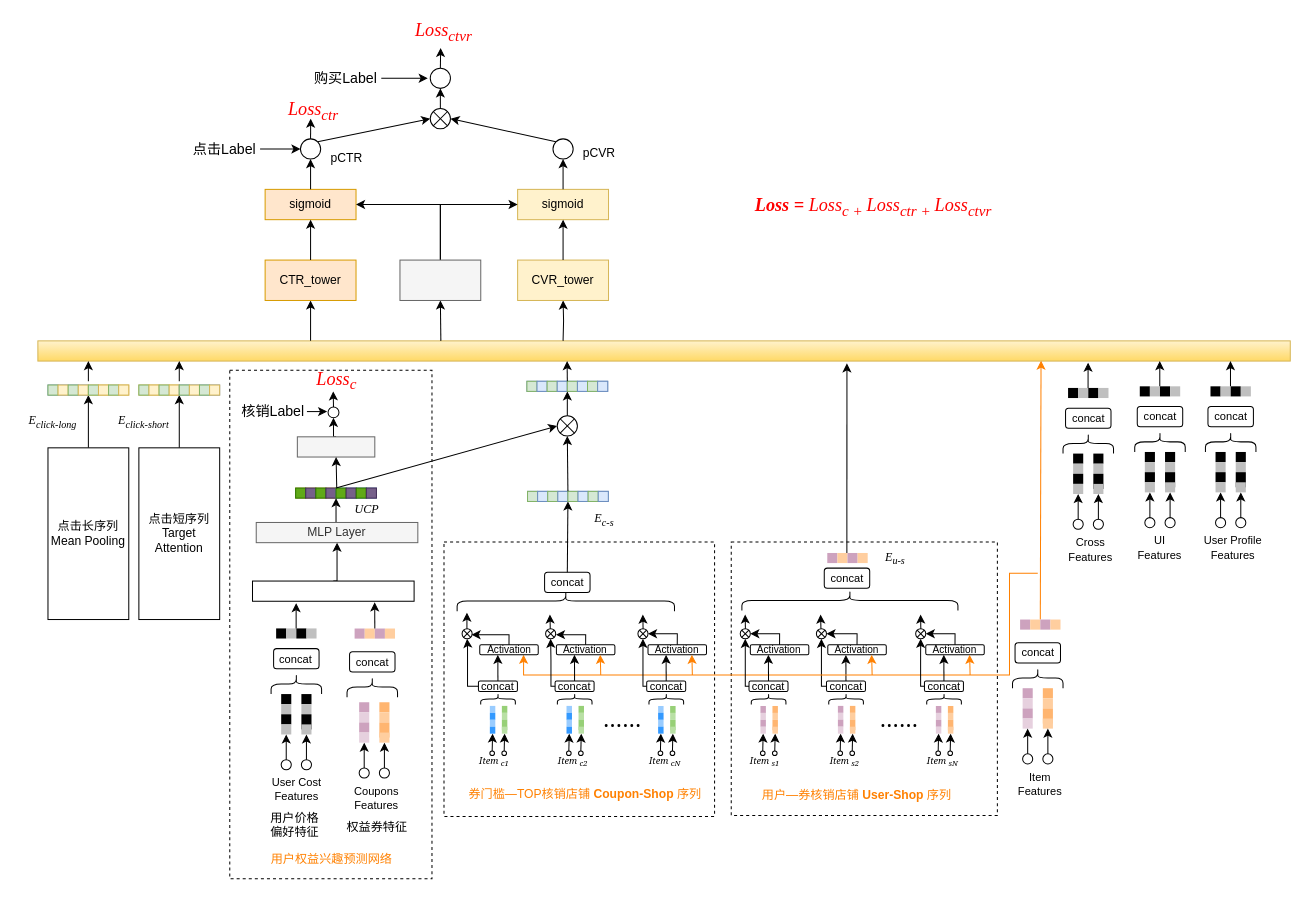
Image size: 1308x900. Some labels were removed from this diagram. Here are the shapes that lost their labels. From the top down, the centre of each, then its label:
(440,279): Bias_tower
(663,350): All Features Embedding
(335,446): Predict Score
(332,590): Cost Features Embedding
